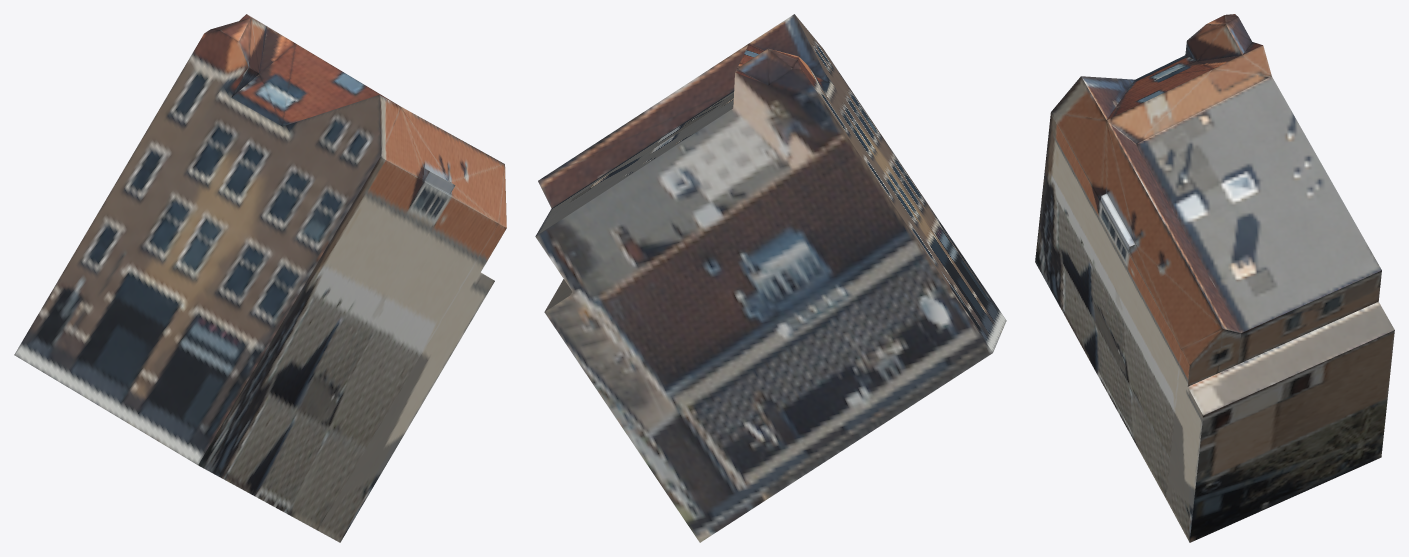
The picture shows the model from 3 angles, left to right: view 1: azimuth 30°, elevation 25°; view 2: azimuth 150°, elevation 25°; view 3: azimuth 270°, elevation 25°; orthographic projection. The views are drawn at different scales.
Parts seen in each view (by area): view 1: BAG_0599100000656921 (×5); view 2: BAG_0599100000656921 (×3); view 3: BAG_0599100000656921 (×5).
Part boxes in pixels (<box>): BAG_0599100000656921 (×5): <box>14,14,506,542</box>; BAG_0599100000656921 (×3): <box>535,14,1006,542</box>; BAG_0599100000656921 (×5): <box>1035,15,1394,542</box>.
Size of the model in its own units: 22.14 by 22.65 by 15.16.
1 material, 1 textured.
